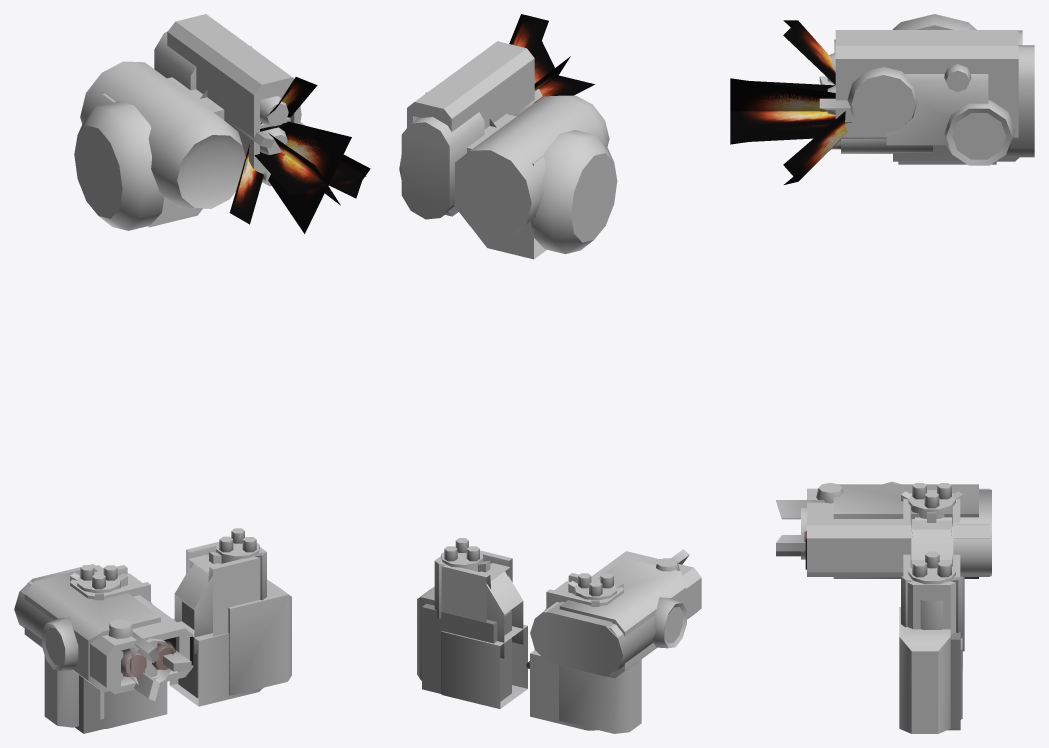
File: DroidWeaponAttachments.fbx
3 views of the same model, side by side, from view 1: azimuth 30°, elevation 25°; view 2: azimuth 150°, elevation 25°; view 3: azimuth 270°, elevation 25° (orthographic). The views are drawn at different scales.
Visible parts, largest first — view 1: Head, plasmaGun_wall, plasmaGun_floor, rocketLauncher, muzzle_plasma, gatlingGun_wall, rocketLauncher_wall, rocketLauncher_floor, muzzle_gatling, gatlingGun, gatlingGun_floor, WeaponAttachment (+3 smaller); view 2: Head, plasmaGun_wall, gatlingGun_wall, rocketLauncher, plasmaGun_floor, gatlingGun, gatlingGun_floor, rocketLauncher_wall, muzzle_plasma, rocketLauncher_floor, muzzle_gatling, barrel02 (+1 smaller); view 3: rocketLauncher, plasmaGun, plasmaGun_wall, rocketLauncher_floor, muzzle_plasma, plasmaGun_floor, muzzle_gatling, rocketLauncher_wall, gatlingGun, gatlingGun_floor, gatlingGun_wall, Head (+3 smaller).
Boxes of the visible parts, left/top/right/bottom form: Head: left=74, top=61, right=247, bottom=230; plasmaGun_wall: left=44, top=552, right=291, bottom=733; plasmaGun_floor: left=24, top=568, right=191, bottom=700; rocketLauncher: left=167, top=14, right=301, bottom=174; muzzle_plasma: left=229, top=77, right=370, bottom=224; gatlingGun_wall: left=104, top=555, right=262, bottom=728; rocketLauncher_wall: left=70, top=541, right=266, bottom=719; rocketLauncher_floor: left=21, top=565, right=193, bottom=694; muzzle_gatling: left=254, top=121, right=366, bottom=233; gatlingGun: left=154, top=31, right=196, bottom=90; gatlingGun_floor: left=14, top=564, right=157, bottom=677; WeaponAttachment: left=260, top=94, right=288, bottom=154; Head: left=454, top=95, right=617, bottom=259; plasmaGun_wall: left=417, top=561, right=641, bottom=733; gatlingGun_wall: left=441, top=563, right=598, bottom=730; rocketLauncher: left=407, top=41, right=534, bottom=131; plasmaGun_floor: left=559, top=549, right=689, bottom=678; gatlingGun: left=401, top=112, right=484, bottom=219; gatlingGun_floor: left=530, top=594, right=655, bottom=676; rocketLauncher_wall: left=435, top=550, right=623, bottom=675; muzzle_plasma: left=509, top=14, right=573, bottom=102; rocketLauncher_floor: left=536, top=551, right=701, bottom=674; muzzle_gatling: left=534, top=41, right=594, bottom=100; barrel02: left=441, top=538, right=483, bottom=571; rocketLauncher: left=835, top=30, right=1018, bottom=141; plasmaGun: left=819, top=74, right=1019, bottom=165; plasmaGun_wall: left=899, top=491, right=964, bottom=733; rocketLauncher_floor: left=807, top=483, right=989, bottom=576; muzzle_plasma: left=730, top=20, right=849, bottom=184; plasmaGun_floor: left=776, top=481, right=978, bottom=578; muzzle_gatling: left=730, top=78, right=851, bottom=144; rocketLauncher_wall: left=903, top=493, right=960, bottom=634; gatlingGun: left=1002, top=45, right=1034, bottom=157; gatlingGun_floor: left=915, top=489, right=991, bottom=576; gatlingGun_wall: left=911, top=523, right=962, bottom=719; Head: left=834, top=14, right=1022, bottom=164.
Size of the model in its own units: 80.6 by 190 by 75.52.
